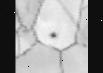good_void: (49, 31, 57, 38)
